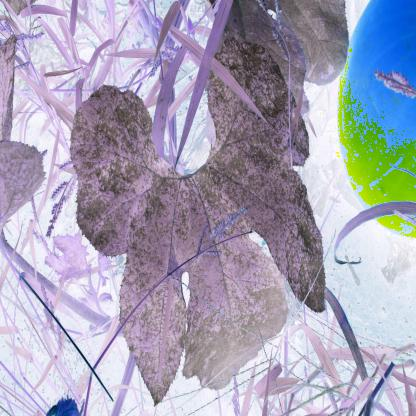squash powdery mildew leaf: (65, 33, 330, 409)
